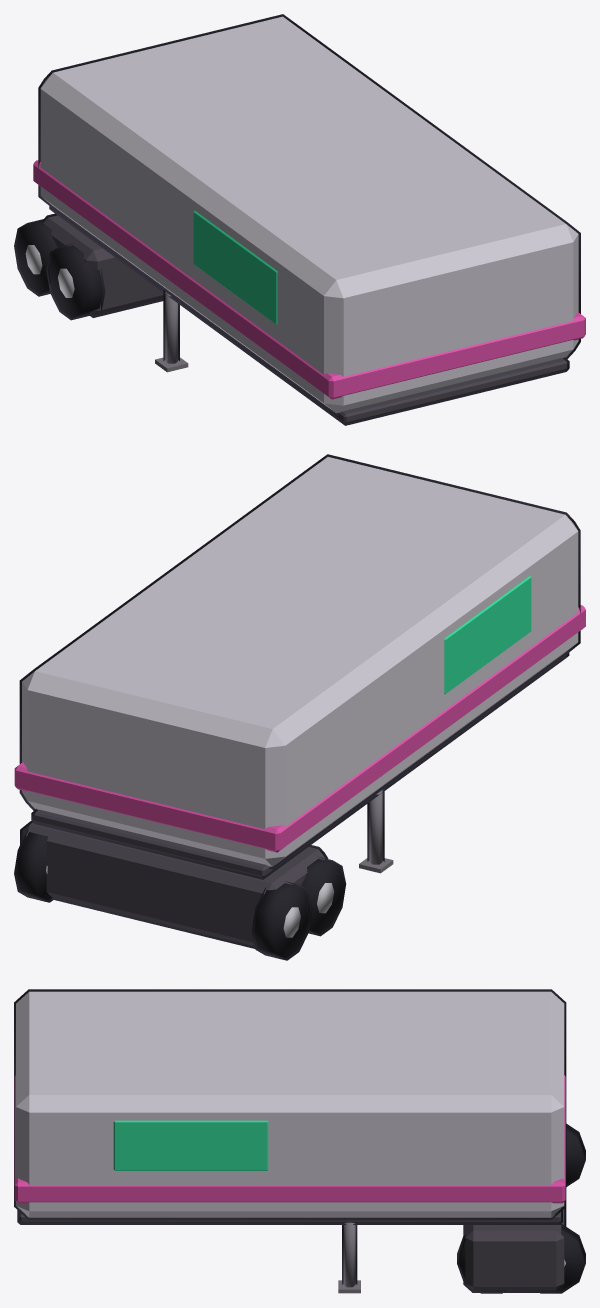
The model's file is slide_truck.glb.
The picture shows the model from 3 angles, top to bottom: view 1: azimuth 30°, elevation 25°; view 2: azimuth 150°, elevation 25°; view 3: azimuth 270°, elevation 25°; orthographic projection. The views are drawn at different scales.
Visible parts, largest first — view 1: slide_truck; view 2: slide_truck; view 3: slide_truck.
Boxes of the visible parts, x1,y1,x2,y2 form: slide_truck: (14, 14, 585, 425); slide_truck: (14, 454, 585, 960); slide_truck: (14, 989, 585, 1293).
Bounding box in the file's own units: 4.25 × 3.36 × 8.66.
